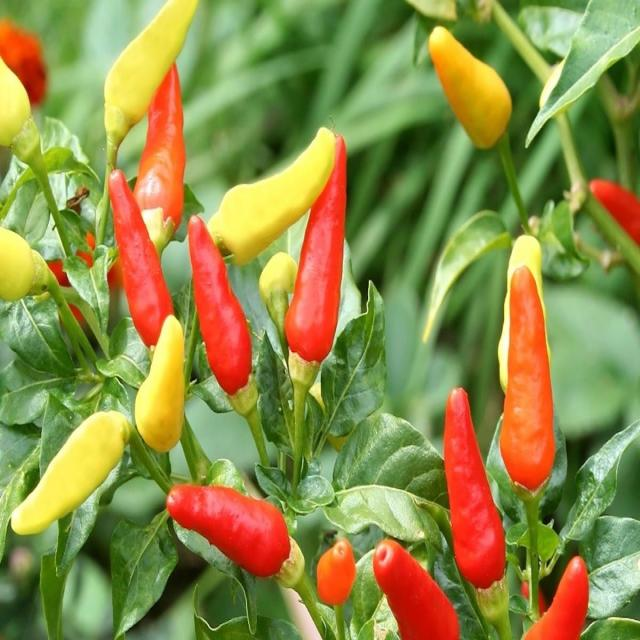Chilli Pepper: (61, 0, 200, 224), (200, 96, 355, 274), (482, 236, 570, 512), (270, 126, 358, 402), (2, 378, 134, 562), (429, 354, 519, 616), (418, 14, 538, 186), (119, 60, 213, 264), (127, 466, 310, 564), (185, 210, 258, 444), (107, 166, 180, 378), (368, 516, 465, 640), (134, 306, 198, 486), (511, 524, 608, 640), (303, 516, 381, 632)
